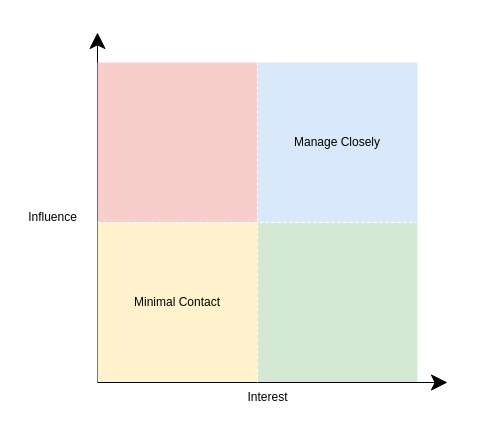
This 481x430 diagram has some shape labels left out. The shapes that lost their labels are listed below. From the top down, each one's centre as x and y in pixels, then its label:
At point (177, 142): "Keep Informed".
At point (337, 302): "Keep Satisfied".
